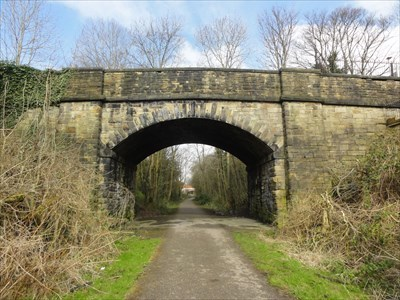bridge: (1, 69, 400, 153)
